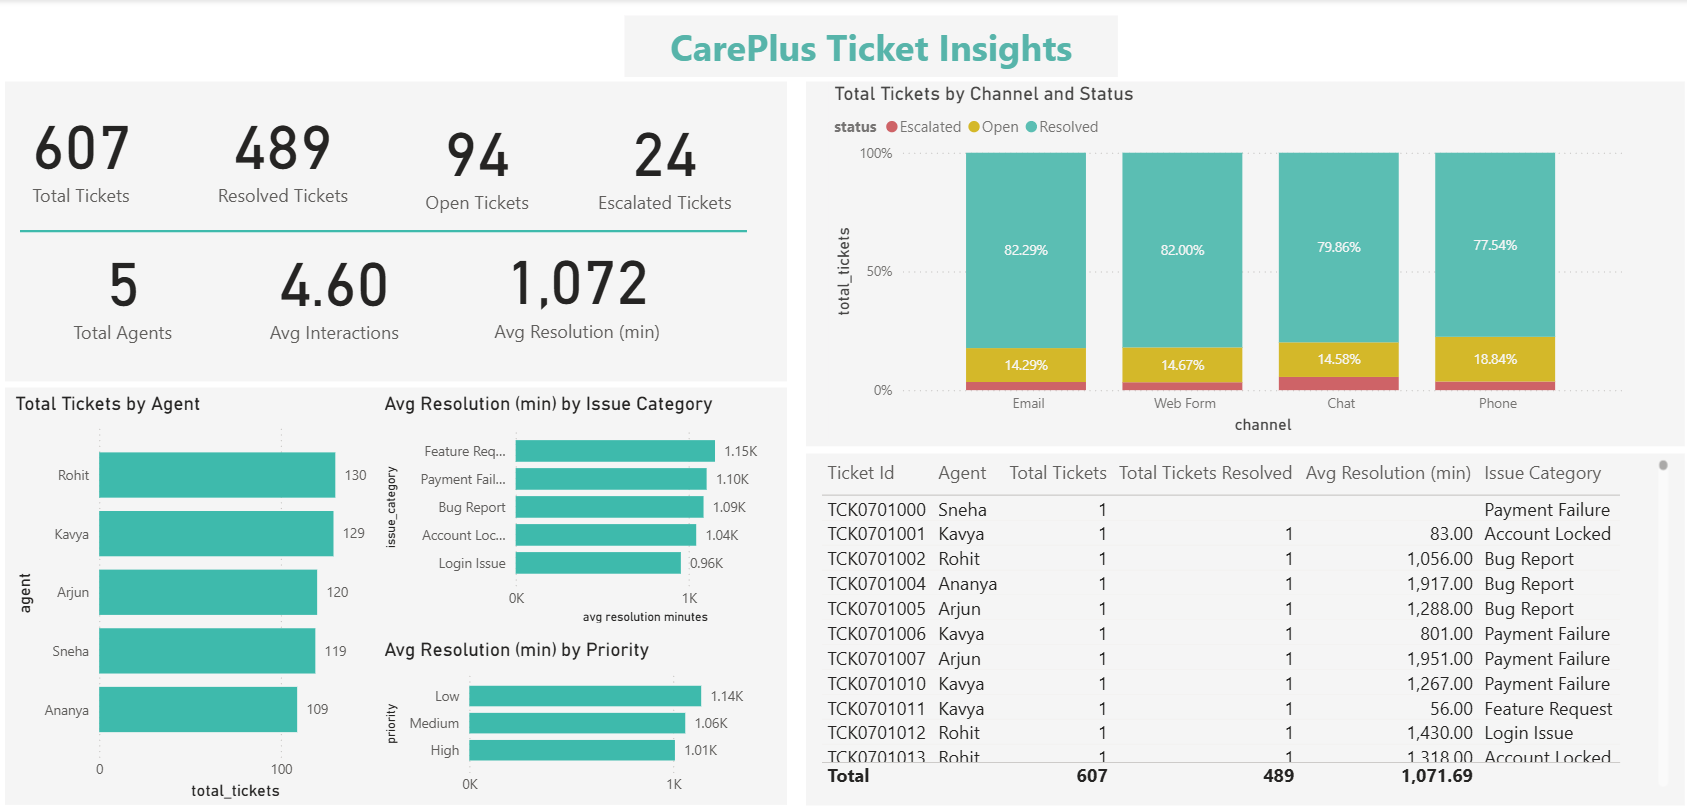

Layout of this report page (visuals, bound fields, positions):
{"tool":"powerbi","page":{"name":"support tickets","canvas":[1500,720],"ordinal":0},"visuals":[{"type":"shape","box":[713.2,401.9,777.5,311.3],"z":0},{"type":"shape","box":[5.7,343,691.7,369.3],"z":1000},{"type":"shape","box":[5.7,73.2,691.7,265.2],"z":2000},{"type":"card","fields":{"Values":["key_measures.Total Tickets Escalated"]},"box":[514.4,83.3,147.6,114],"z":3000},{"type":"card","fields":{"Values":["key_measures.Total Tickets Open"]},"box":[356.6,83.3,131.5,114],"z":4000},{"type":"card","fields":{"Values":["key_measures.total_tickets"]},"box":[0,71.8,144.5,126.3],"z":5000},{"type":"card","fields":{"Values":["key_measures.Total Tickets Resolved"]},"box":[171,71.6,159.3,125.7],"z":6000},{"type":"card","fields":{"Values":["key_measures.Total Agents"]},"box":[41.2,201.2,136.1,108.6],"z":7000},{"type":"card","fields":{"Values":["key_measures.Avg Interactions"]},"box":[228.1,201.2,136.1,108.6],"z":8000},{"type":"card","fields":{"Values":["key_measures.avg resolution minutes"]},"box":[415.1,198.8,191.5,111.1],"z":9000},{"type":"barChart","title":"Total Tickets by Agent","fields":{"Category":["support_tickets.agent"],"Y":["key_measures.total_tickets"]},"box":[9.1,347.3,335,364.7],"z":10000},{"type":"hundredPercentStackedColumnChart","title":"Total Tickets by Channel and Status","fields":{"Category":["support_tickets.channel"],"Series":["support_tickets.status"],"Y":["key_measures.total_tickets"]},"box":[733.7,73.1,707.3,315.7],"z":11000},{"type":"tableEx","fields":{"Values":["support_tickets.ticket_id","support_tickets.agent","key_measures.total_tickets","key_measures.Total Tickets Resolved","key_measures.avg resolution minutes","support_tickets.issue_category"]},"box":[722,401.9,760,299.6],"z":12000},{"type":"textbox","box":[552.7,15.1,436.4,54.4],"z":13000},{"type":"barChart","title":"Avg Resolution (min) by Issue Category","fields":{"Category":["support_tickets.issue_category"],"Y":["key_measures.avg resolution minutes"]},"box":[335.2,347.3,362.4,209],"z":14000},{"type":"barChart","title":"Avg Resolution (min) by Priority","fields":{"Category":["support_tickets.priority"],"Y":["key_measures.avg resolution minutes"]},"box":[335.2,564.8,362.4,147.6],"z":15000},{"type":"shape","box":[19,100.8,643,209],"z":16000},{"type":"shape","box":[713.2,73.1,777.5,323],"z":17000},{"type":"shape","box":[552.7,15.1,436.4,54.4],"z":17001}]}

Visuals, with their boxes in screenshot pixels (x1, y1, x2, y2), scaled from the page's 1500x720 canvas onto the 1687x811 screenshot:
shape: crop(802, 453, 1677, 803)
shape: crop(6, 386, 784, 802)
shape: crop(6, 82, 784, 381)
card - key_measures.Total Tickets Escalated: crop(579, 94, 745, 222)
card - key_measures.Total Tickets Open: crop(401, 94, 549, 222)
card - key_measures.total_tickets: crop(0, 81, 163, 223)
card - key_measures.Total Tickets Resolved: crop(192, 81, 371, 222)
card - key_measures.Total Agents: crop(46, 227, 199, 349)
card - key_measures.Avg Interactions: crop(257, 227, 410, 349)
card - key_measures.avg resolution minutes: crop(467, 224, 682, 349)
"Total Tickets by Agent" barChart: crop(10, 391, 387, 802)
"Total Tickets by Channel and Status" hundredPercentStackedColumnChart: crop(825, 82, 1621, 438)
tableEx - support_tickets.ticket_id x support_tickets.agent: crop(812, 453, 1667, 790)
textbox: crop(622, 17, 1112, 78)
"Avg Resolution (min) by Issue Category" barChart: crop(377, 391, 785, 627)
"Avg Resolution (min) by Priority" barChart: crop(377, 636, 785, 802)
shape: crop(21, 114, 745, 349)
shape: crop(802, 82, 1677, 446)
shape: crop(622, 17, 1112, 78)
